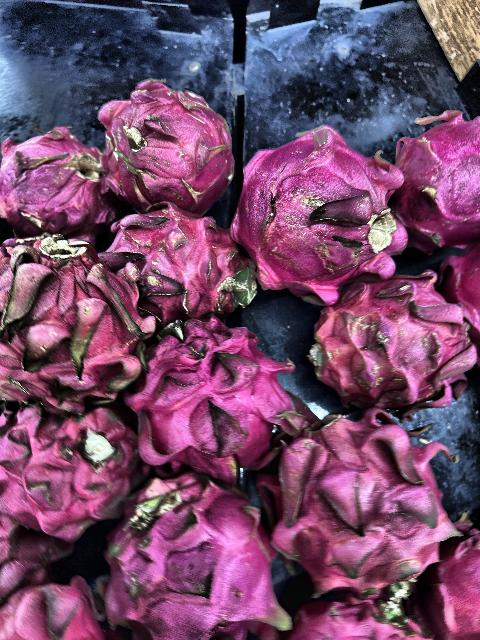buah-naga-belum-matang: (0, 231, 142, 409)
buah-naga-matang: (214, 132, 406, 298), (280, 412, 452, 592), (133, 311, 291, 491), (116, 480, 288, 640), (304, 270, 480, 408), (0, 393, 142, 542), (109, 205, 261, 329), (85, 78, 236, 200), (0, 125, 106, 248), (396, 100, 480, 246)
